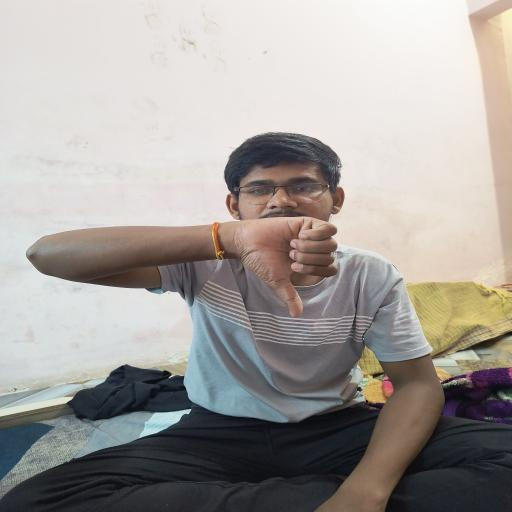Continue: (226, 208, 350, 323)
